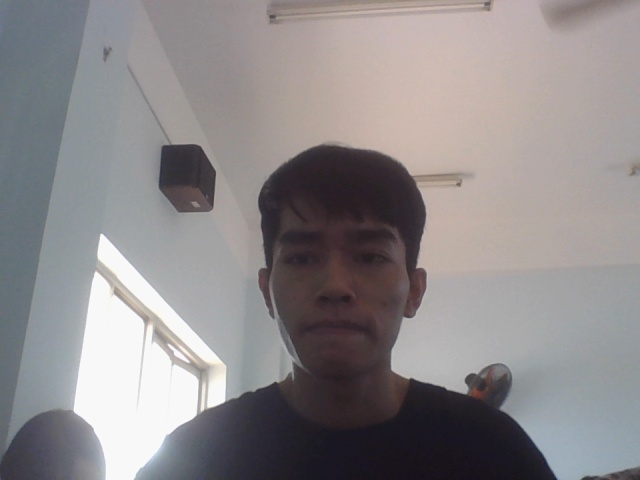real: (247, 121, 437, 391)
